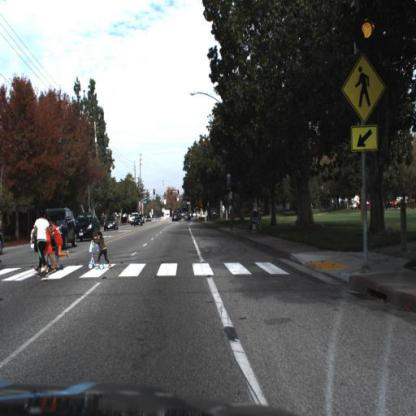car: (45, 208, 79, 252), (46, 207, 80, 248), (75, 212, 104, 239), (103, 215, 125, 236), (131, 212, 145, 230), (172, 211, 184, 227)
pedestrian: (33, 210, 55, 277), (87, 226, 112, 276), (49, 217, 72, 270)
